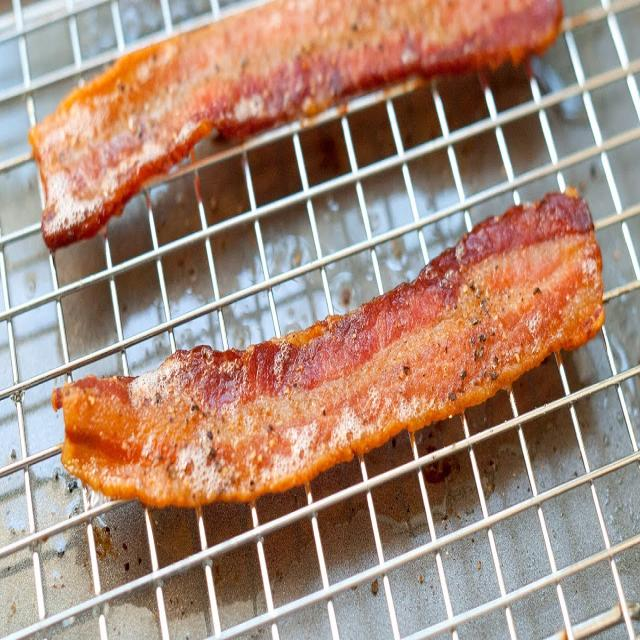Bacon: (52, 193, 604, 507), (29, 0, 564, 249)
